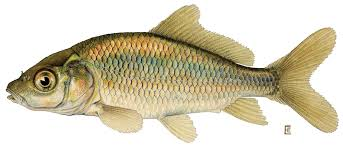carp: (5, 3, 339, 145)
